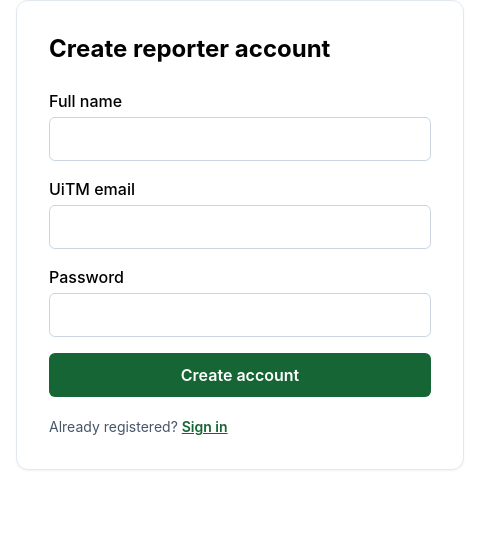
Test case: UC-01 authentication pages › fr01/fr02: renders registration field errors without clearing input
This screenshot has width=481, height=535.
Type "Sample Reporter" into the field labelled "Full name".
click(240, 139); type("Sample Reporter")  # box [49,117,431,161]
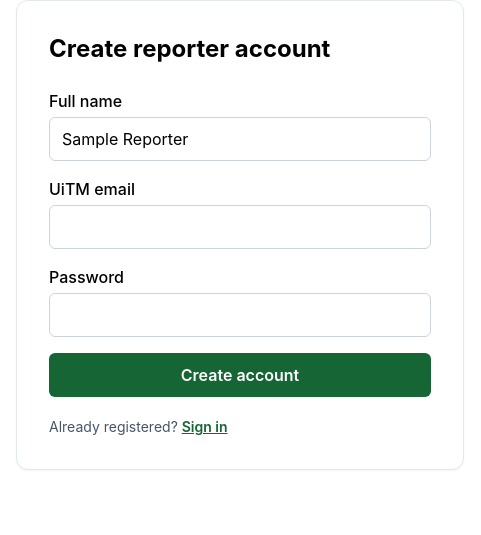
Type "reporter@example.com" into the field labelled "UiTM email".
click(240, 227); type("reporter@example.com")  # box [49,205,431,249]
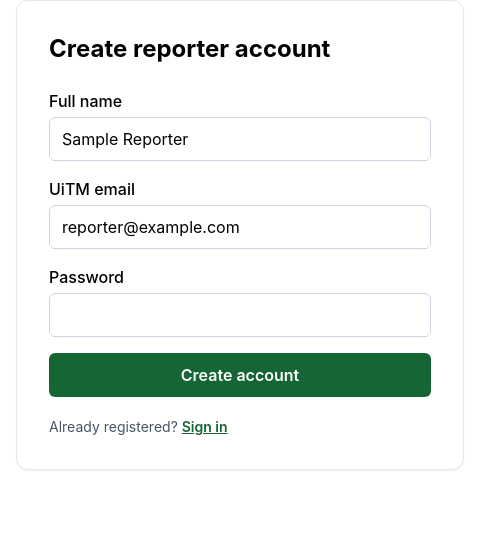
Type "Password123" into the password field labelled "Password".
click(240, 315); type("Password123")  # box [49,293,431,337]
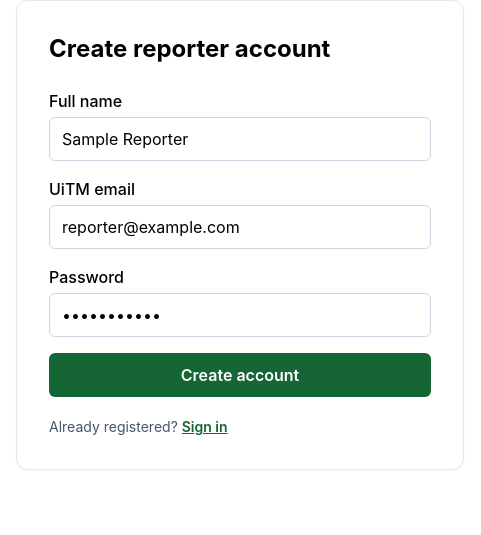
Click the button "Create account".
click(240, 375)  # box [49,353,431,397]
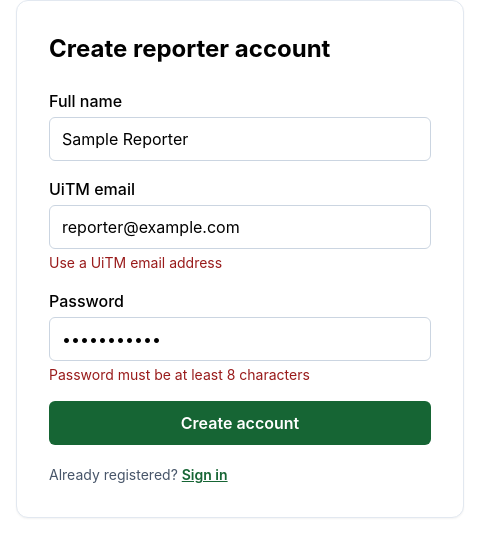
Expected: the text "Use a UiTM email address" is shown, [49,254,222,271]
